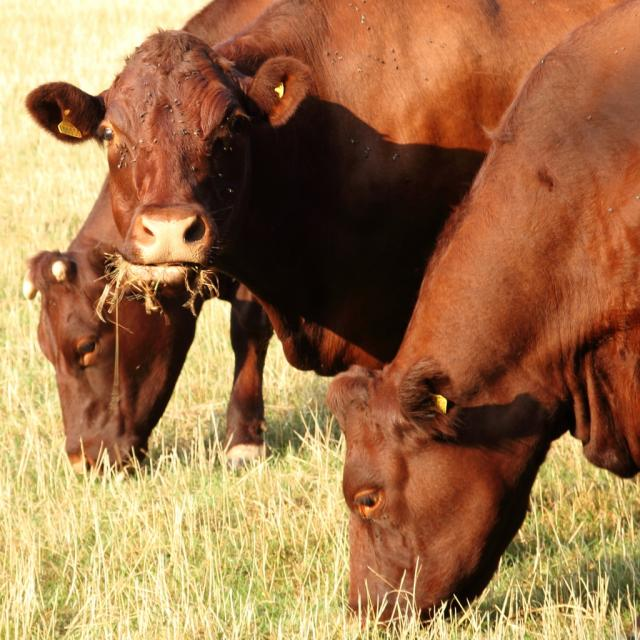Cattle: (25, 0, 630, 377), (325, 0, 640, 632), (23, 0, 281, 481)
